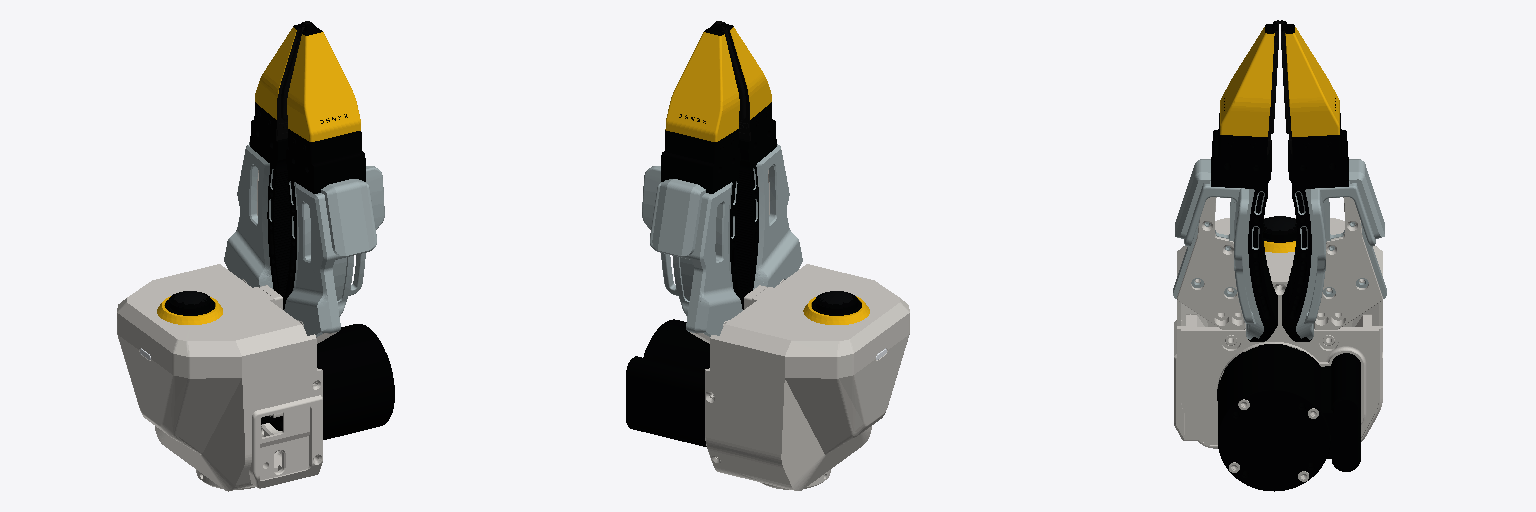
URDF robot description (taccap_g1_slave):
<robot name="taccap_g1_slave">
  <!-- Generated by scripts/generate_models.py; edit Xacro/config sources instead. -->
  <material name="taccap_silver">
    <color rgba="0.82 0.81 0.79 1" />
  </material>
  <material name="taccap_cover">
    <color rgba="0.65 0.7 0.71 1" />
  </material>
  <material name="taccap_black">
    <color rgba="0.018 0.02 0.022 1" />
  </material>
  <material name="taccap_yellow">
    <color rgba="0.95 0.72 0.07 1" />
  </material>
  <material name="taccap_gel">
    <color rgba="0.055 0.055 0.055 1" />
  </material>
  <material name="taccap_lens">
    <color rgba="0.05 0.055 0.06 0.62" />
  </material>
  <material name="taccap_light">
    <color rgba="0.92 0.94 0.96 0.85" />
  </material>
  <link name="taccap_base_link">
    <inertial>
      <origin rpy="0 0 0" xyz="0.00055404 -0.0011065 0.03389788000000001" />
      <mass value="0.153" />
      <inertia ixx="0.0001662522337781271" ixy="5.051220230199417e-07" ixz="1.023875307549503e-05" iyy="0.000126891433023779" iyz="-1.820980122271716e-06" izz="0.0001290344694980937" />
    </inertial>
    <visual name="body_link_visual_silver">
      <origin rpy="-0 -1.570796326794897 0" xyz="0.01975 -0.0060769 0.034023" />
      <geometry>
        <mesh filename="../meshes/body_link__silver.STL" />
      </geometry>
      <material name="taccap_silver" />
    </visual>
    <visual name="body_link_visual_black">
      <origin rpy="-0 -1.570796326794897 0" xyz="0.01975 -0.0060769 0.034023" />
      <geometry>
        <mesh filename="../meshes/body_link__black.STL" />
      </geometry>
      <material name="taccap_black" />
    </visual>
    <visual name="body_link_visual_yellow">
      <origin rpy="-0 -1.570796326794897 0" xyz="0.01975 -0.0060769 0.034023" />
      <geometry>
        <mesh filename="../meshes/body_link__yellow.STL" />
      </geometry>
      <material name="taccap_yellow" />
    </visual>
    <visual name="body_link_visual_light">
      <origin rpy="-0 -1.570796326794897 0" xyz="0.01975 -0.0060769 0.034023" />
      <geometry>
        <mesh filename="../meshes/body_link__light.STL" />
      </geometry>
      <material name="taccap_light" />
    </visual>
    <collision name="body_link_collision">
      <origin rpy="-0 -1.570796326794897 0" xyz="0.01975 -0.0060769 0.034023" />
      <geometry>
        <mesh filename="../meshes/collision/body_link.stl" />
      </geometry>
    </collision>
  </link>
  <link name="taccap_motor_link">
    <inertial>
      <origin rpy="0 0 0" xyz="0.03743085 -0.00109355 0.02554797" />
      <mass value="0.299" />
      <inertia ixx="2.530466922324684e-05" ixy="-2.027952739115101e-06" ixz="-1.239938363961379e-07" iyy="4.01613260249333e-05" iyz="-7.393526076882528e-07" izz="4.954026835181985e-05" />
    </inertial>
    <visual name="motor_link_visual_silver">
      <origin rpy="-0 -1.570796326794897 0" xyz="0.01975 -0.0060769 0.034023" />
      <geometry>
        <mesh filename="../meshes/motor_link__silver.STL" />
      </geometry>
      <material name="taccap_silver" />
    </visual>
    <visual name="motor_link_visual_black">
      <origin rpy="-0 -1.570796326794897 0" xyz="0.01975 -0.0060769 0.034023" />
      <geometry>
        <mesh filename="../meshes/motor_link__black.STL" />
      </geometry>
      <material name="taccap_black" />
    </visual>
    <collision name="motor_link_collision">
      <origin rpy="-0 -1.570796326794897 0" xyz="0.01975 -0.0060769 0.034023" />
      <geometry>
        <mesh filename="../meshes/collision/motor_link.stl" />
      </geometry>
    </collision>
  </link>
  <link name="taccap_left_finger_link">
    <inertial>
      <origin rpy="0 0 0" xyz="0.0140949482 -0.00330133312635219 0.04838757908594267" />
      <mass value="0.14" />
      <inertia ixx="0.0003065325738824327" ixy="1.304843016703693e-06" ixz="-6.577075277330767e-05" iyy="0.0003222085257195986" iyz="7.713878953415112e-06" izz="3.792830299796826e-05" />
    </inertial>
    <visual name="left_link_visual_silver">
      <origin rpy="1.570796326794894 -1.513048197635941 -1.570796326794894" xyz="1.776356839400251e-18 0 0" />
      <geometry>
        <mesh filename="../meshes/left_link__silver.STL" />
      </geometry>
      <material name="taccap_silver" />
    </visual>
    <visual name="left_link_visual_cover">
      <origin rpy="1.570796326794894 -1.513048197635941 -1.570796326794894" xyz="1.776356839400251e-18 0 0" />
      <geometry>
        <mesh filename="../meshes/left_link__cover.STL" />
      </geometry>
      <material name="taccap_cover" />
    </visual>
    <visual name="left_link_visual_black">
      <origin rpy="1.570796326794894 -1.513048197635941 -1.570796326794894" xyz="1.776356839400251e-18 0 0" />
      <geometry>
        <mesh filename="../meshes/left_link__black.STL" />
      </geometry>
      <material name="taccap_black" />
    </visual>
    <visual name="left_link_visual_yellow">
      <origin rpy="1.570796326794894 -1.513048197635941 -1.570796326794894" xyz="1.776356839400251e-18 0 0" />
      <geometry>
        <mesh filename="../meshes/left_link__yellow.STL" />
      </geometry>
      <material name="taccap_yellow" />
    </visual>
    <visual name="left_link_visual_gel">
      <origin rpy="1.570796326794894 -1.513048197635941 -1.570796326794894" xyz="1.776356839400251e-18 0 0" />
      <geometry>
        <mesh filename="../meshes/left_link__gel.STL" />
      </geometry>
      <material name="taccap_gel" />
    </visual>
    <visual name="left_link_visual_print">
      <origin rpy="1.570796326794894 -1.513048197635941 -1.570796326794894" xyz="1.776356839400251e-18 0 0" />
      <geometry>
        <mesh filename="../meshes/left_link_silkscreen.STL" />
      </geometry>
      <material name="taccap_black" />
    </visual>
    <collision name="left_link_collision">
      <origin rpy="1.570796326794894 -1.513048197635941 -1.570796326794894" xyz="1.776356839400251e-18 0 0" />
      <geometry>
        <mesh filename="../meshes/collision/left_link.stl" />
      </geometry>
    </collision>
  </link>
  <link name="taccap_right_finger_link">
    <inertial>
      <origin rpy="0 0 0" xyz="0.0140399882 0.003278948264701973 0.04829841241419621" />
      <mass value="0.14" />
      <inertia ixx="0.0003063018651248454" ixy="-1.332880396949135e-06" ixz="-6.566639014047093e-05" iyy="0.0003219105627972025" iyz="-7.90572760751648e-06" izz="3.79806639779513e-05" />
    </inertial>
    <visual name="right_link_visual_silver">
      <origin rpy="-1.570796326794894 -1.513048197635941 1.570796326794894" xyz="1.776356839400251e-18 0 0" />
      <geometry>
        <mesh filename="../meshes/right_link__silver.STL" />
      </geometry>
      <material name="taccap_silver" />
    </visual>
    <visual name="right_link_visual_cover">
      <origin rpy="-1.570796326794894 -1.513048197635941 1.570796326794894" xyz="1.776356839400251e-18 0 0" />
      <geometry>
        <mesh filename="../meshes/right_link__cover.STL" />
      </geometry>
      <material name="taccap_cover" />
    </visual>
    <visual name="right_link_visual_black">
      <origin rpy="-1.570796326794894 -1.513048197635941 1.570796326794894" xyz="1.776356839400251e-18 0 0" />
      <geometry>
        <mesh filename="../meshes/right_link__black.STL" />
      </geometry>
      <material name="taccap_black" />
    </visual>
    <visual name="right_link_visual_yellow">
      <origin rpy="-1.570796326794894 -1.513048197635941 1.570796326794894" xyz="1.776356839400251e-18 0 0" />
      <geometry>
        <mesh filename="../meshes/right_link__yellow.STL" />
      </geometry>
      <material name="taccap_yellow" />
    </visual>
    <visual name="right_link_visual_gel">
      <origin rpy="-1.570796326794894 -1.513048197635941 1.570796326794894" xyz="1.776356839400251e-18 0 0" />
      <geometry>
        <mesh filename="../meshes/right_link__gel.STL" />
      </geometry>
      <material name="taccap_gel" />
    </visual>
    <visual name="right_link_visual_print">
      <origin rpy="-1.570796326794894 -1.513048197635941 1.570796326794894" xyz="1.776356839400251e-18 0 0" />
      <geometry>
        <mesh filename="../meshes/right_link_silkscreen.STL" />
      </geometry>
      <material name="taccap_black" />
    </visual>
    <collision name="right_link_collision">
      <origin rpy="-1.570796326794894 -1.513048197635941 1.570796326794894" xyz="1.776356839400251e-18 0 0" />
      <geometry>
        <mesh filename="../meshes/collision/right_link.stl" />
      </geometry>
    </collision>
  </link>
  <link name="taccap_camera_body_link">
    <inertial>
      <origin rpy="0 0 0" xyz="-0.02305604 9.135000000000001e-05 0.06677412000000001" />
      <mass value="0.018" />
      <inertia ixx="2.08279730304444e-06" ixy="2.468185608919793e-08" ixz="-6.715076777008704e-08" iyy="2.153388567352938e-06" iyz="1.990738215085462e-08" izz="1.83083202960262e-06" />
    </inertial>
    <visual name="camera_link_visual_black">
      <origin rpy="-0 -1.570796326794897 0" xyz="0.01975 -0.0060769 0.034023" />
      <geometry>
        <mesh filename="../meshes/camera_link__black.STL" />
      </geometry>
      <material name="taccap_black" />
    </visual>
    <visual name="camera_link_visual_lens">
      <origin rpy="-0 -1.570796326794897 0" xyz="0.01975 -0.0060769 0.034023" />
      <geometry>
        <mesh filename="../meshes/camera_link__lens.STL" />
      </geometry>
      <material name="taccap_lens" />
    </visual>
    <collision name="camera_link_collision">
      <origin rpy="-0 -1.570796326794897 0" xyz="0.01975 -0.0060769 0.034023" />
      <geometry>
        <mesh filename="../meshes/camera_link.STL" />
      </geometry>
    </collision>
  </link>
  <link name="taccap_eef_link" />
  <link name="taccap_camera_link" />
  <link name="taccap_camera_optical_link" />
  <joint name="taccap_left_finger_joint" type="revolute">
    <parent link="taccap_base_link" />
    <child link="taccap_left_finger_link" />
    <origin rpy="0 0 0" xyz="0.0120336718 0.0199500106 0.0484999712" />
    <axis xyz="1 0 0" />
    <limit effort="1.1" lower="-0.5047492196767601" upper="0" velocity="1" />
    <dynamics damping="0.08" friction="0.01" />
    <mimic joint="taccap_right_finger_joint" multiplier="-1" offset="0" />
  </joint>
  <joint name="taccap_right_finger_joint" type="revolute">
    <parent link="taccap_base_link" />
    <child link="taccap_right_finger_link" />
    <origin rpy="0 0 0" xyz="0.0120336718 -0.0199499894 0.0484999712" />
    <axis xyz="1 0 0" />
    <limit effort="1.1" lower="0" upper="0.5047492196767601" velocity="1" />
    <dynamics damping="0.08" friction="0.01" />
  </joint>
  <joint name="taccap_eef_joint" type="fixed">
    <parent link="taccap_base_link" />
    <child link="taccap_eef_link" />
    <origin rpy="0 0 0" xyz="0.036575 0 0.2009217" />
  </joint>
  <joint name="taccap_camera_joint" type="fixed">
    <parent link="taccap_base_link" />
    <child link="taccap_camera_link" />
    <origin rpy="0 0 0" xyz="-0.02275 0 0.06125" />
  </joint>
  <joint name="taccap_camera_optical_joint" type="fixed">
    <parent link="taccap_camera_link" />
    <child link="taccap_camera_optical_link" />
    <origin rpy="0 0 -1.5707963267948966" xyz="0 0 0" />
  </joint>
  <joint name="taccap_motor_joint" type="fixed">
    <parent link="taccap_base_link" />
    <child link="taccap_motor_link" />
    <origin rpy="0 0 0" xyz="0 0 0" />
  </joint>
  <joint name="taccap_camera_body_joint" type="fixed">
    <parent link="taccap_base_link" />
    <child link="taccap_camera_body_link" />
    <origin rpy="0 0 0" xyz="0 0 0" />
  </joint>
</robot>

--- Facts derived from the render (not from the file) ---
The picture shows the robot from 3 angles, left to right: view 1: azimuth 30°, elevation 25°; view 2: azimuth 150°, elevation 25°; view 3: azimuth 270°, elevation 25°; orthographic projection.
Model taccap_g1_slave with 8 links and 7 joints (2 revolute, 5 fixed), rooted at taccap_base_link, posed all joints at 0.
Visible links, largest first — view 1: taccap_base_link, taccap_right_finger_link, taccap_left_finger_link, taccap_motor_link, taccap_camera_body_link; view 2: taccap_base_link, taccap_left_finger_link, taccap_right_finger_link, taccap_motor_link, taccap_camera_body_link; view 3: taccap_left_finger_link, taccap_right_finger_link, taccap_motor_link, taccap_base_link, taccap_camera_body_link.
Boxes of the visible links, x1,y1,x2,y2 form: taccap_base_link: (117,264,322,491); taccap_right_finger_link: (269,22,384,417); taccap_left_finger_link: (224,21,309,309); taccap_motor_link: (261,324,394,439); taccap_camera_body_link: (165,291,214,315); taccap_base_link: (705,264,909,490); taccap_left_finger_link: (642,22,742,343); taccap_right_finger_link: (716,21,802,309); taccap_motor_link: (626,319,709,446); taccap_camera_body_link: (812,291,861,315); taccap_left_finger_link: (1280,20,1386,341); taccap_right_finger_link: (1173,20,1279,341); taccap_motor_link: (1218,345,1360,491); taccap_base_link: (1174,218,1382,448); taccap_camera_body_link: (1263,216,1296,242).
Size in the robot's own frame: 0.1112 by 0.0873 by 0.2089 metres.
Meshes: 20 distinct files referenced, 20 mesh visuals loaded (20 binary STL).
